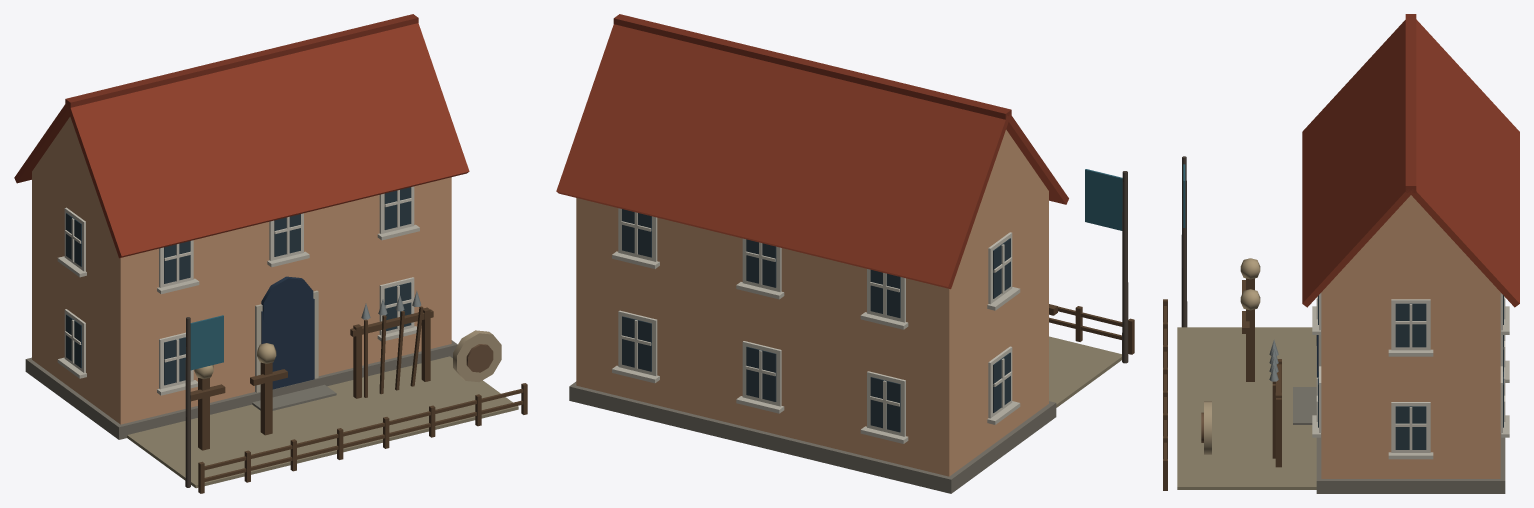
Rendered from procedural_barracks@4.glb.
The picture shows the model from 3 angles, left to right: view 1: azimuth 30°, elevation 25°; view 2: azimuth 150°, elevation 25°; view 3: azimuth 270°, elevation 25°; orthographic projection. The views are drawn at different scales.
Visible parts, largest first — view 1: part_0; view 2: part_0; view 3: part_0.
Part boxes in pixels (box(x1,y1,x2,y2)): part_0: box(14, 14, 527, 493); part_0: box(556, 14, 1134, 493); part_0: box(1163, 14, 1519, 493).
Size of the model in its own units: 8.62 by 7.26 by 7.55.
